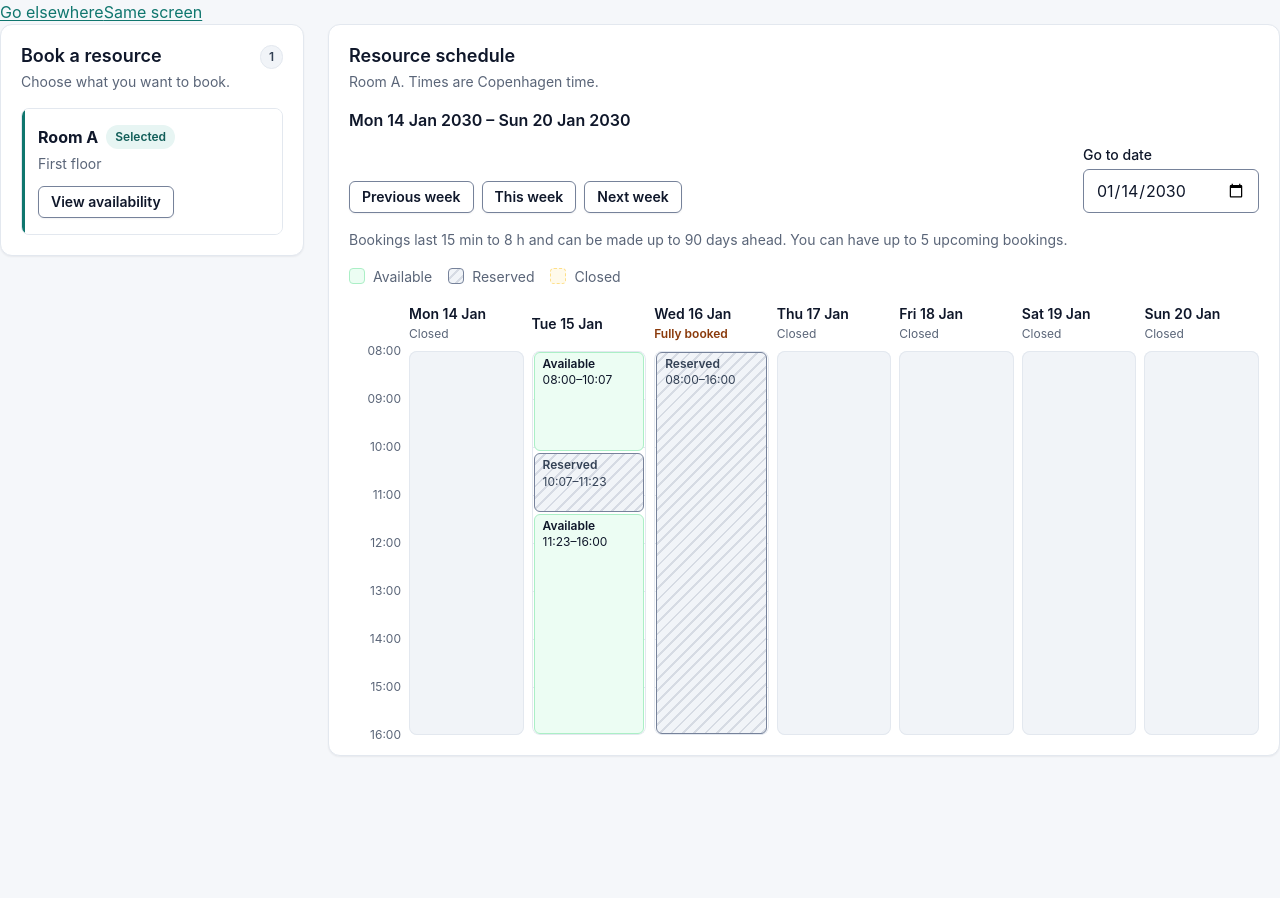
BookingPage calendar › asks before leaving with a changed time
Click the button with aria-label "Available Tue 15 Jan 2030, 08:00–10:07. Choose a time" at (589, 401), box [534,352,644,451]
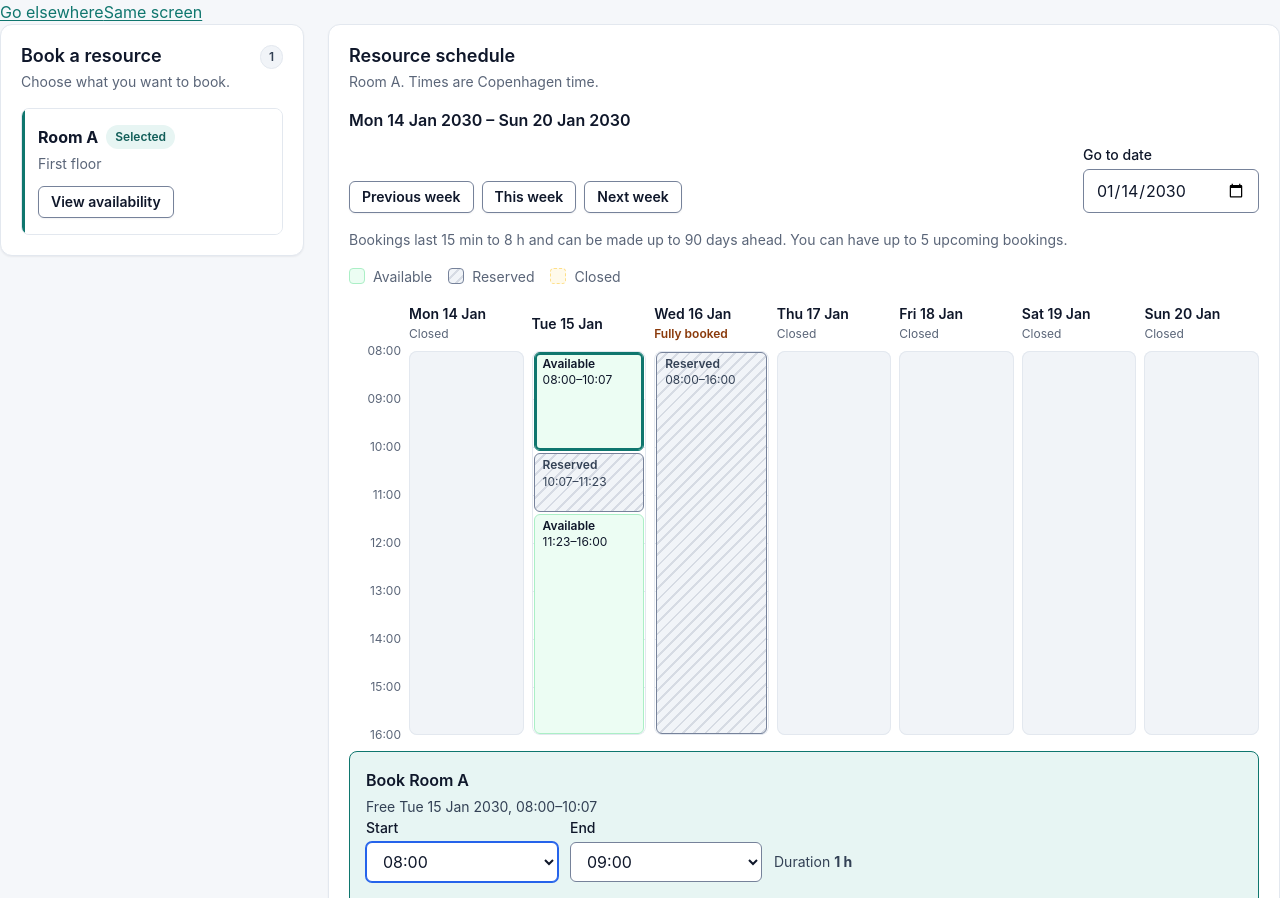
Select "08:30" in the dropdown labelled "Start" at (462, 862), box [366,842,558,882]
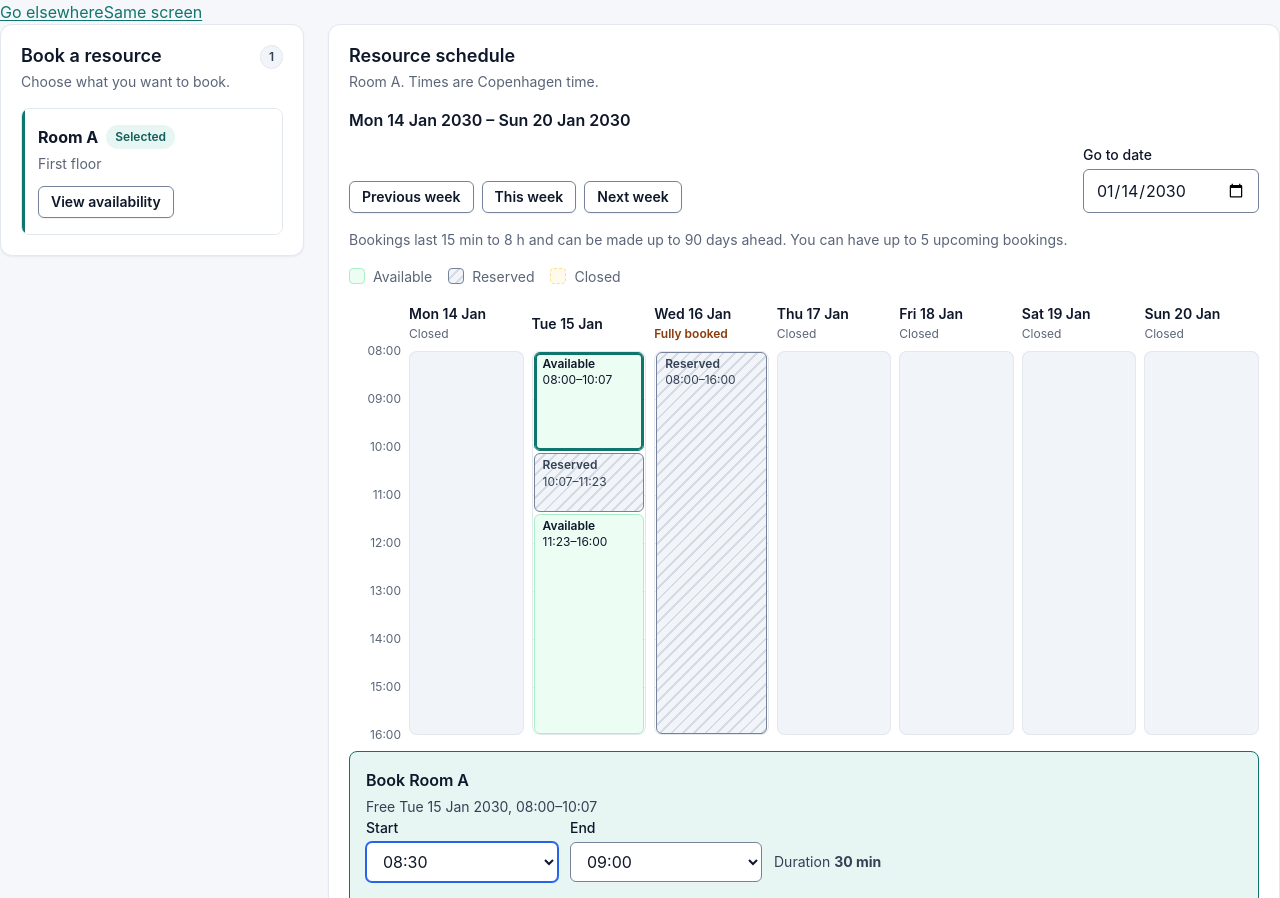
Click the link "Go elsewhere" at (52, 12), box [0,2,104,22]
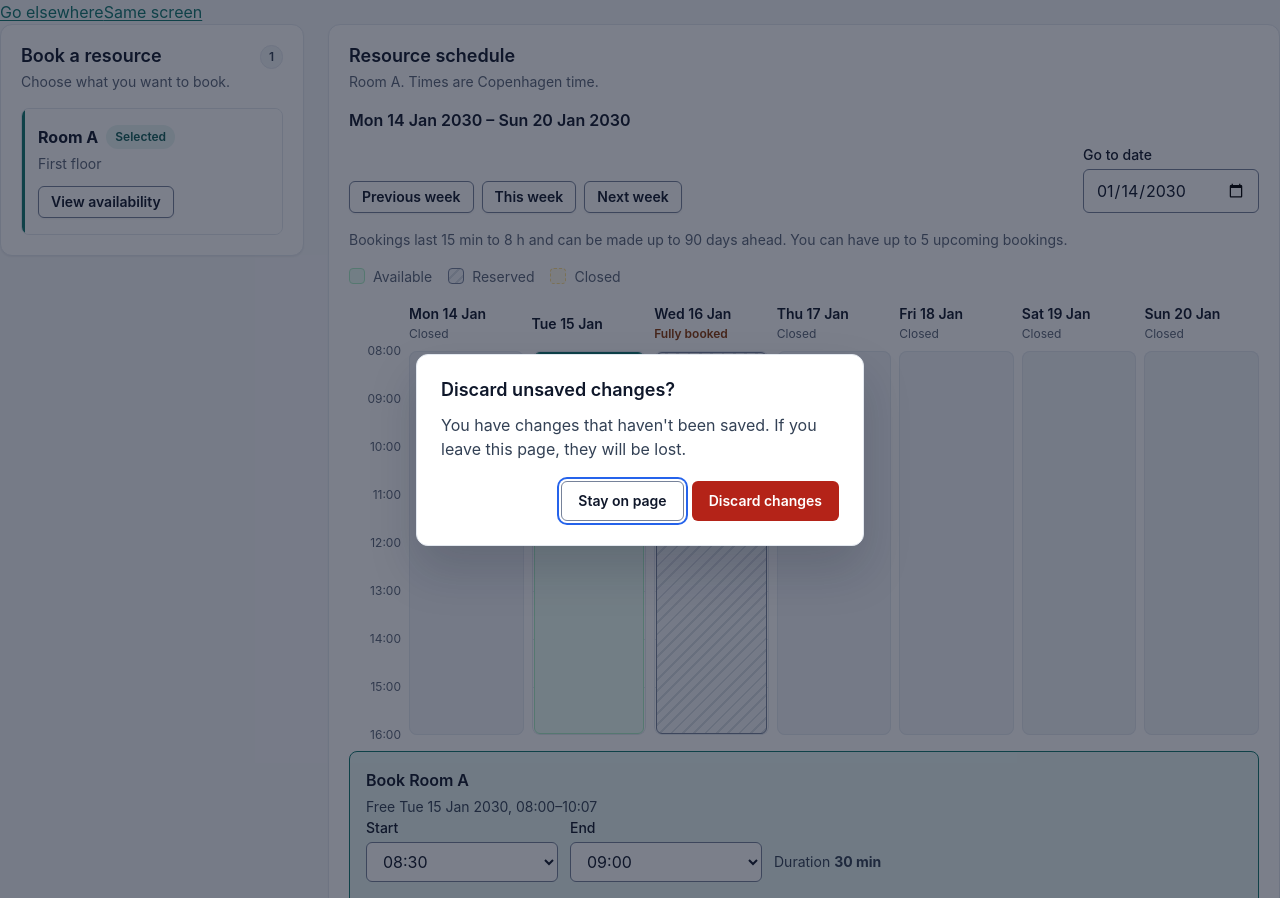
Expected: the dialog "Discard unsaved changes?" is shown, [416,354,864,546]
